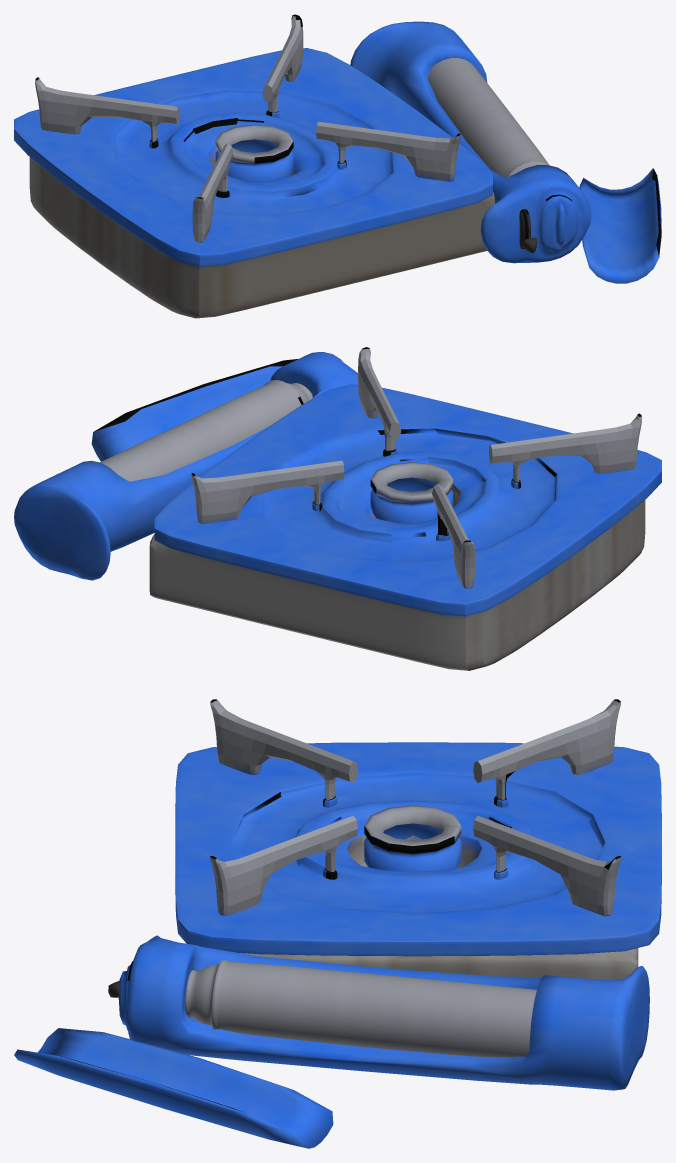
Rendered from FogaoPortatilQuebrado.fbx.
The picture shows the model from 3 angles, top to bottom: view 1: azimuth 30°, elevation 25°; view 2: azimuth 150°, elevation 25°; view 3: azimuth 270°, elevation 25°; orthographic projection. The views are drawn at different scales.
Parts seen in each view (by area): view 1: FogaoDeCampingQuebrado; view 2: FogaoDeCampingQuebrado; view 3: FogaoDeCampingQuebrado.
Part boxes in pixels (left/top/right/bottom): FogaoDeCampingQuebrado: left=14, top=14, right=661, bottom=318; FogaoDeCampingQuebrado: left=14, top=347, right=661, bottom=670; FogaoDeCampingQuebrado: left=14, top=699, right=661, bottom=1148.
Bounding box in the file's own units: 90.77 × 22.85 × 79.89.
